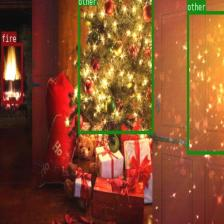fire: (1, 42, 23, 103)
